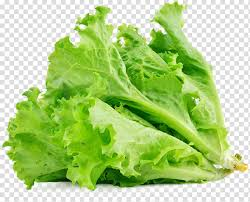Lettuce: (5, 3, 248, 182)
